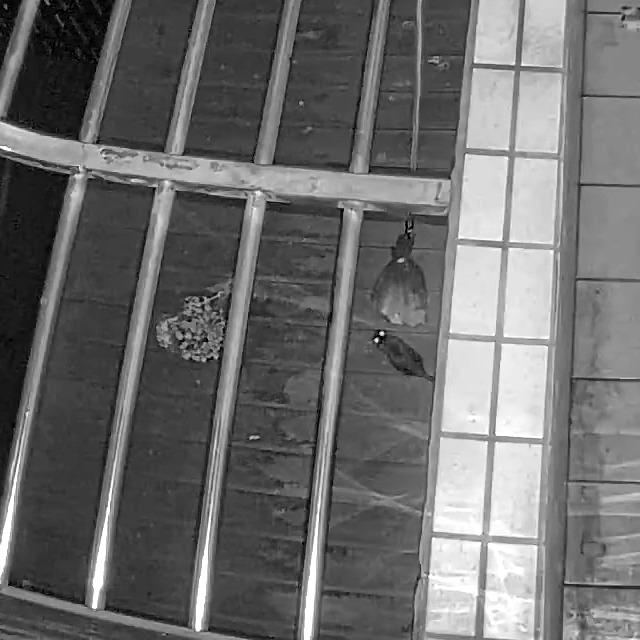rat: (369, 328, 436, 384)
